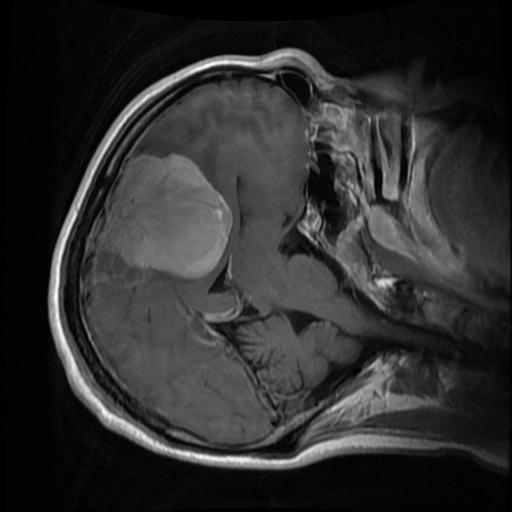meningioma: (95, 152, 234, 281)
